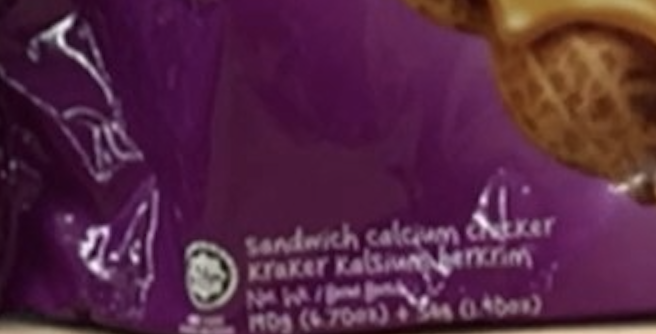halal: (189, 255, 225, 292)
